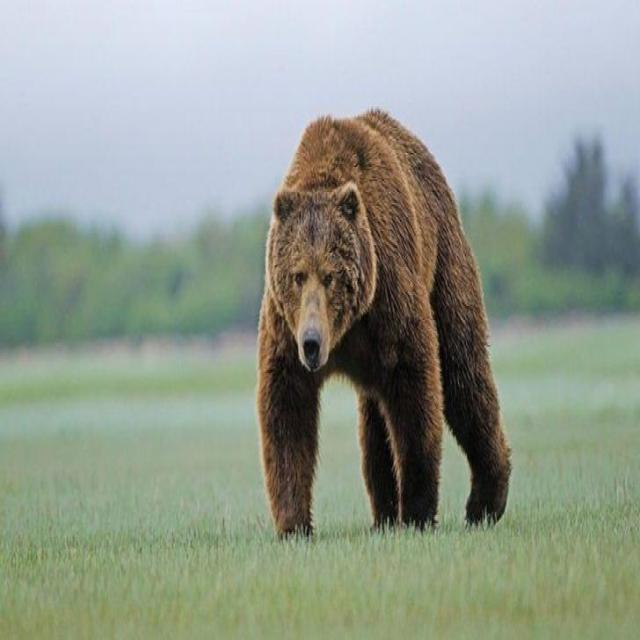Bear: (255, 109, 513, 542)
